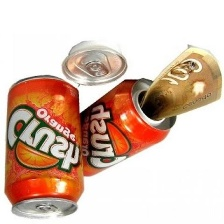can: (0, 71, 87, 221), (71, 77, 179, 179)
